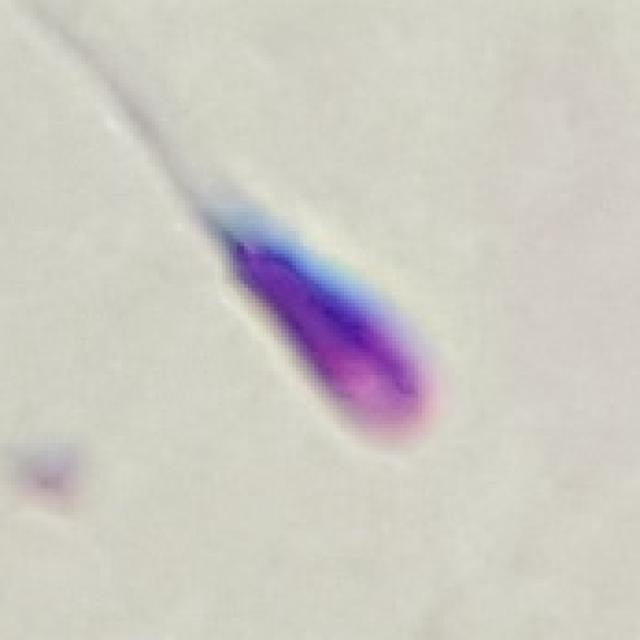abnormal sperm: (51, 13, 461, 450)
